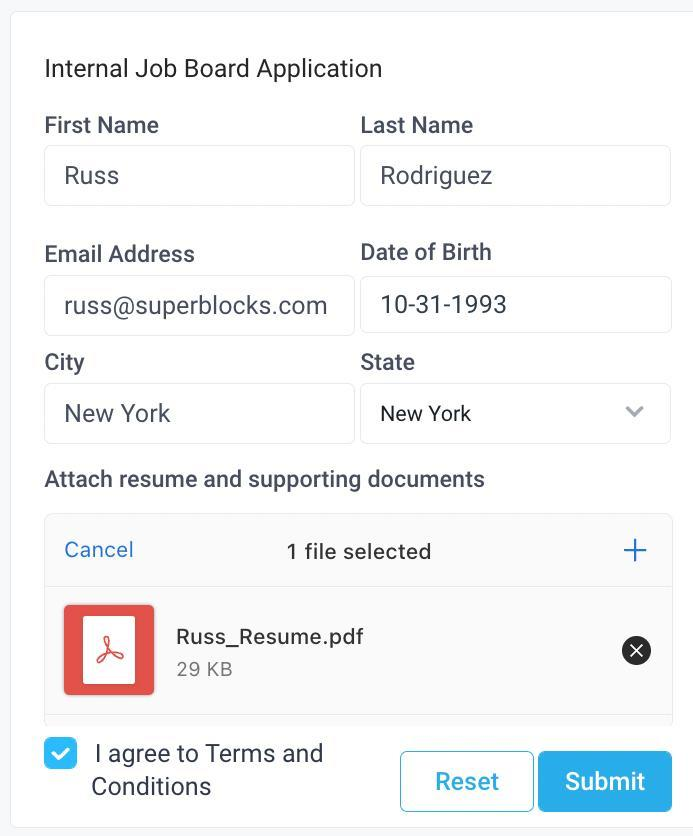button: (538, 749, 674, 813), (401, 752, 535, 814)
checkbox: (43, 737, 79, 771)
dropdown: (359, 382, 673, 447)
icon: (622, 635, 653, 666), (623, 537, 649, 563)
input: (44, 144, 358, 209), (43, 274, 357, 339), (360, 145, 674, 209), (44, 383, 357, 447), (360, 276, 674, 335)
label: (90, 741, 326, 798), (40, 466, 488, 493), (43, 54, 386, 83), (176, 626, 367, 649), (42, 241, 198, 267), (287, 537, 440, 563), (359, 240, 496, 266), (356, 114, 481, 136), (45, 114, 160, 135), (62, 541, 141, 560), (46, 349, 89, 378), (361, 352, 416, 374)
